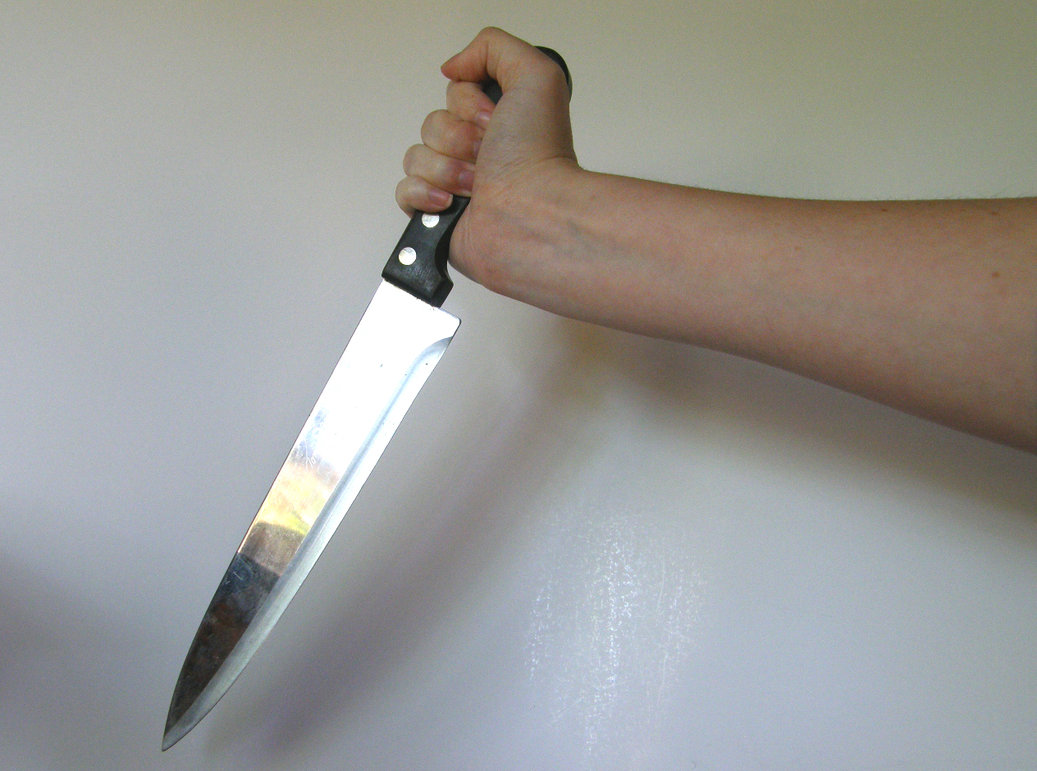knife: (152, 103, 488, 757)
